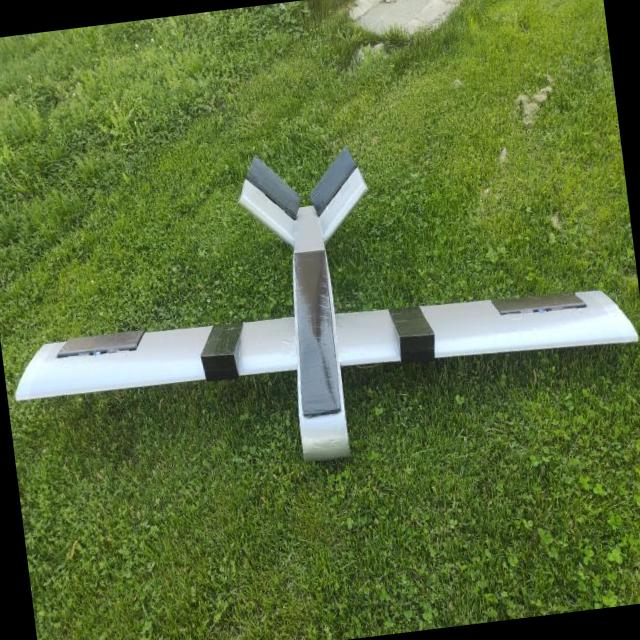UAV: (5, 128, 640, 527)
